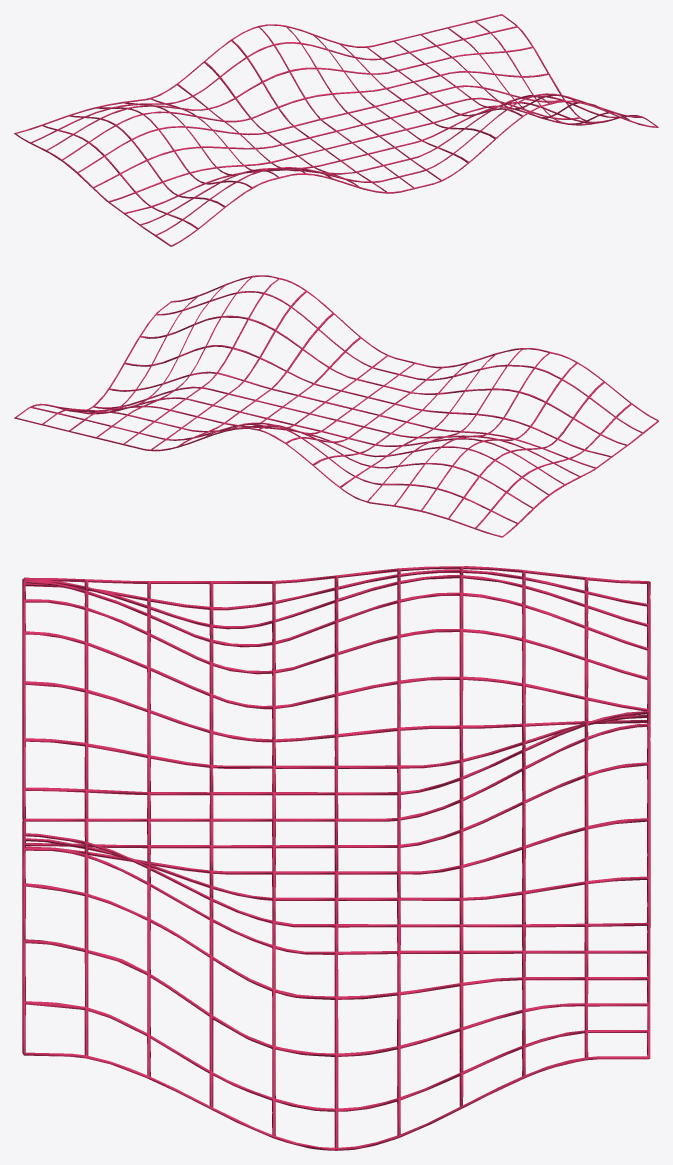
File: deform_strips6_6.gltf
3 renders of one model, top to bottom at view 1: azimuth 30°, elevation 25°; view 2: azimuth 150°, elevation 25°; view 3: azimuth 270°, elevation 25°, orthographic. The views are drawn at different scales.
Visible parts, largest first — view 1: Plane; view 2: Plane; view 3: Plane.
Boxes of the visible parts, box(x1,y1,x2,y2) form: Plane: box(14, 14, 658, 246); Plane: box(14, 275, 658, 537); Plane: box(22, 566, 650, 1150).
Bounding box in the file's own units: 10.68 × 2.06 × 5.95.
